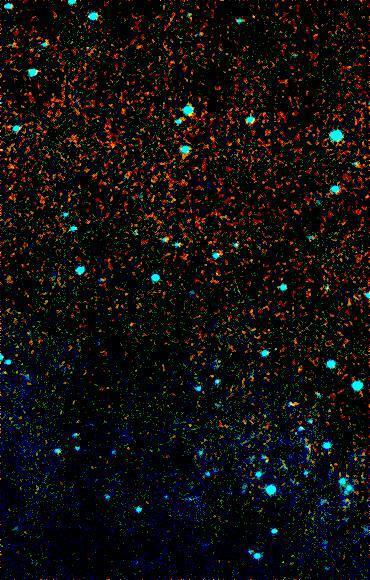star: (200, 354, 230, 384)
